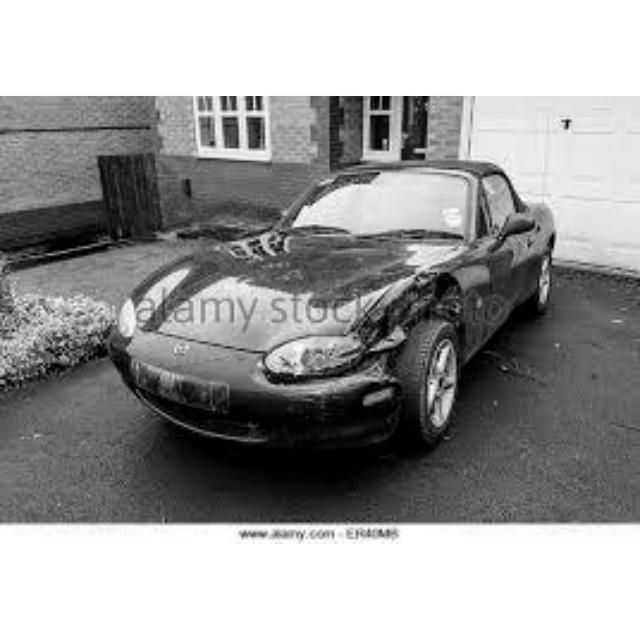fender-dent: (357, 276, 478, 347)
